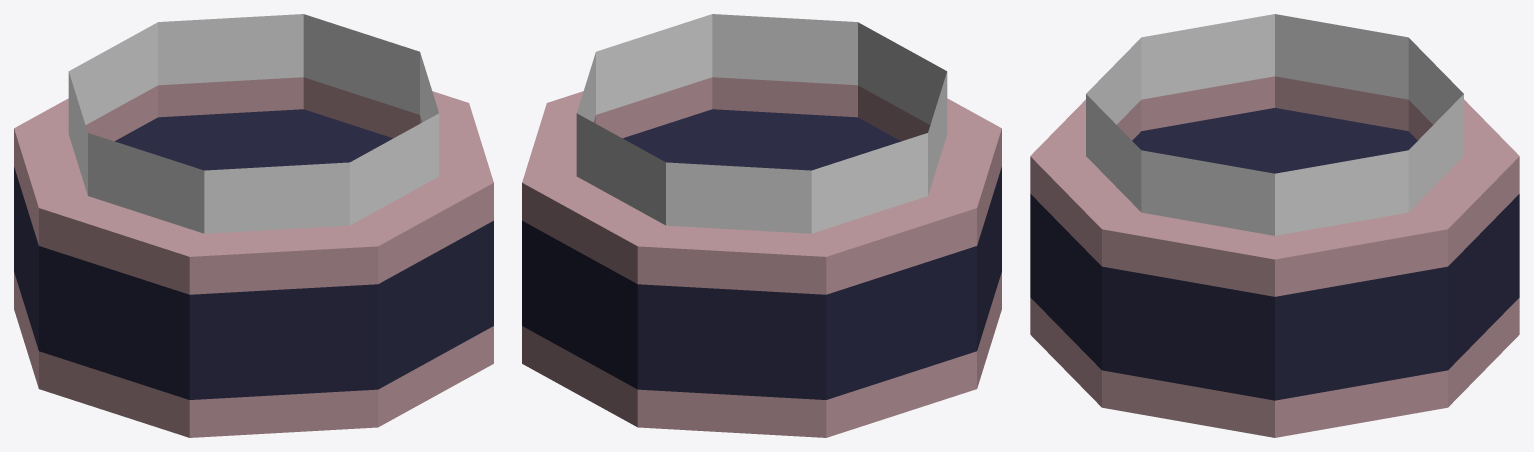
File: objectMaterial_TileFlame.glb
The picture shows the model from 3 angles, left to right: view 1: azimuth 30°, elevation 25°; view 2: azimuth 150°, elevation 25°; view 3: azimuth 270°, elevation 25°; orthographic projection.
Visible parts, largest first — view 1: Material_TileFlame; view 2: Material_TileFlame; view 3: Material_TileFlame.
Boxes of the visible parts, x1,y1,x2,y2 form: Material_TileFlame: (14,14,493,437); Material_TileFlame: (522,14,1001,437); Material_TileFlame: (1030,14,1519,437).
Bounding box in the file's own units: 0.9558 × 0.5187 × 0.9558.
2 materials, 1 textured.
